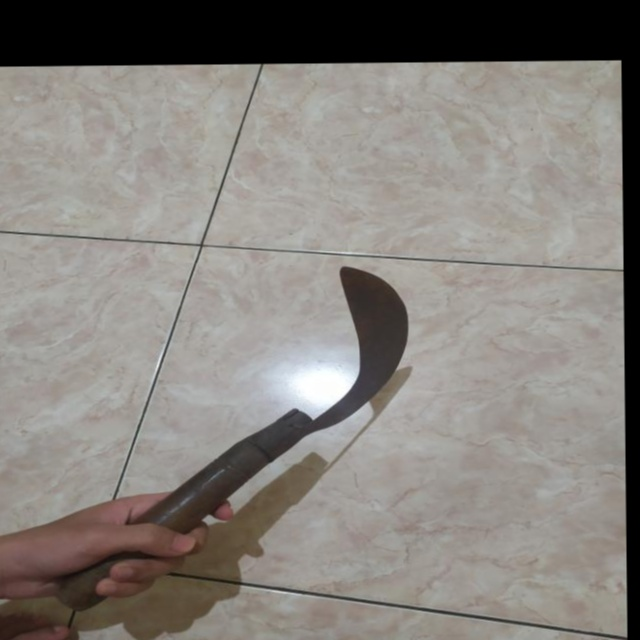Sharp-Object: (47, 254, 416, 613)
